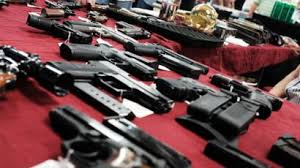Gun: (7, 8, 299, 164)
